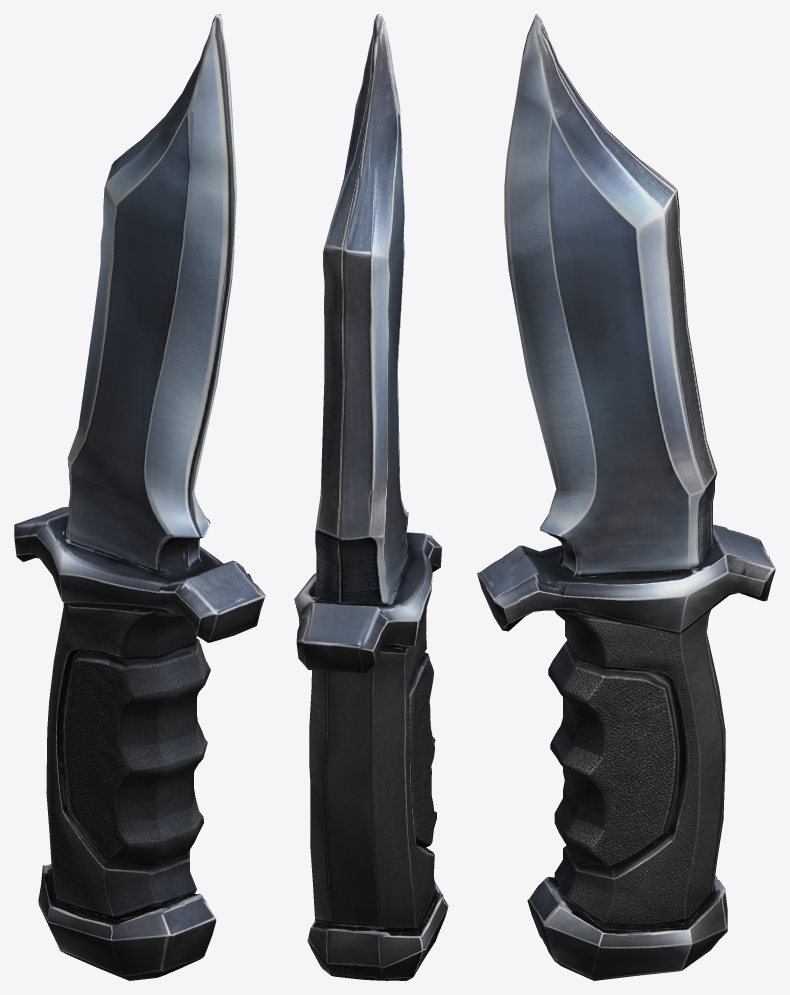
The model's file is sword_knight.fbx.
3 views of the same model, side by side, from view 1: azimuth 30°, elevation 25°; view 2: azimuth 150°, elevation 25°; view 3: azimuth 270°, elevation 25° (orthographic). The views are drawn at different scales.
Visible parts, largest first — view 1: sword_knight; view 2: sword_knight; view 3: sword_knight.
Part boxes in pixels (<box>): sword_knight: <box>14,14,265,980</box>; sword_knight: <box>294,14,448,980</box>; sword_knight: <box>477,14,775,980</box>.
Size of the model in its own units: 0.0696 by 0.45 by 0.1259.
